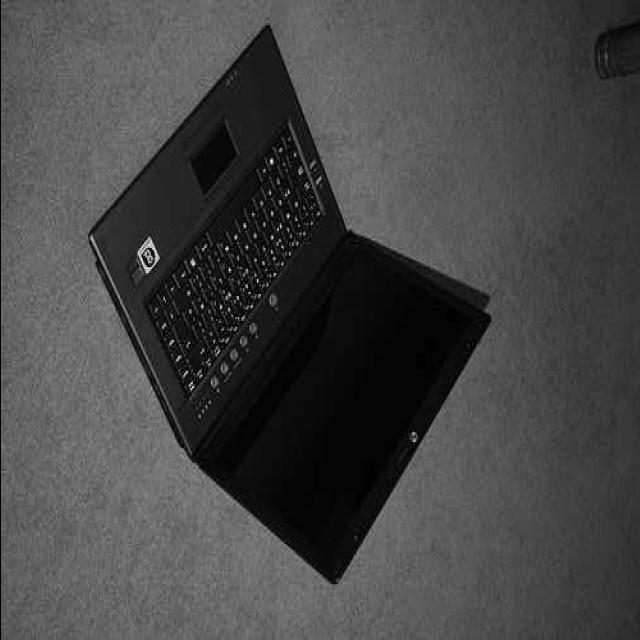laptop: (77, 24, 509, 594)
